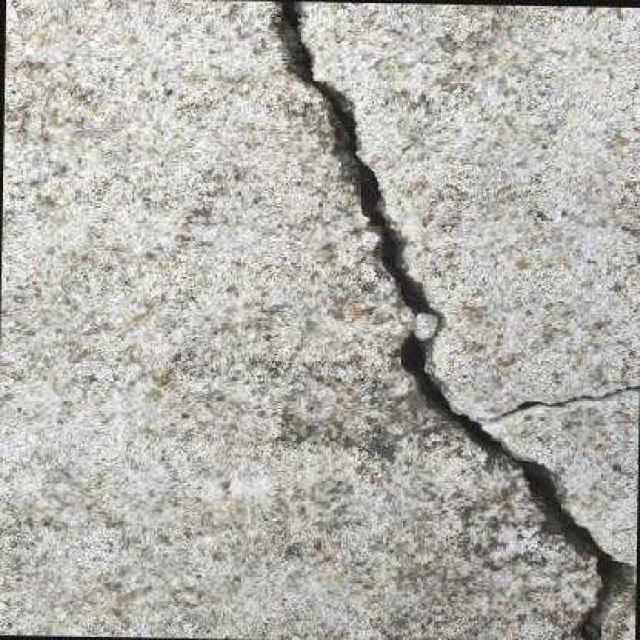D00: (271, 0, 639, 640)
